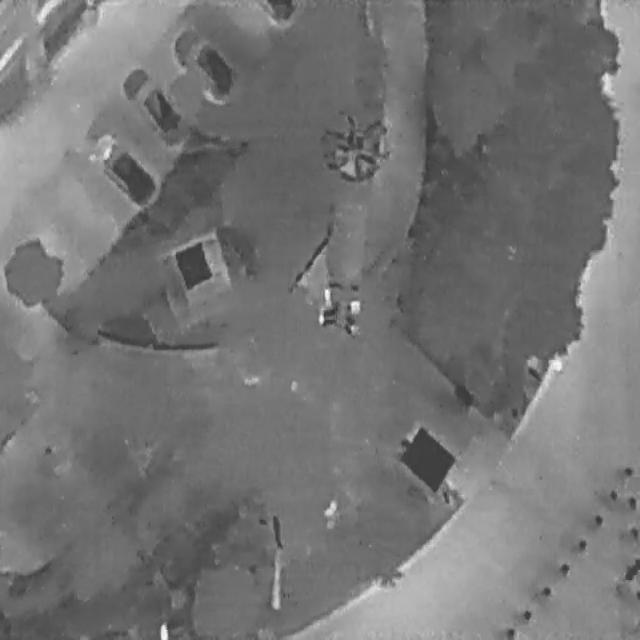Car: (165, 12, 244, 110), (82, 121, 161, 214), (114, 56, 188, 148), (258, 0, 298, 24)
